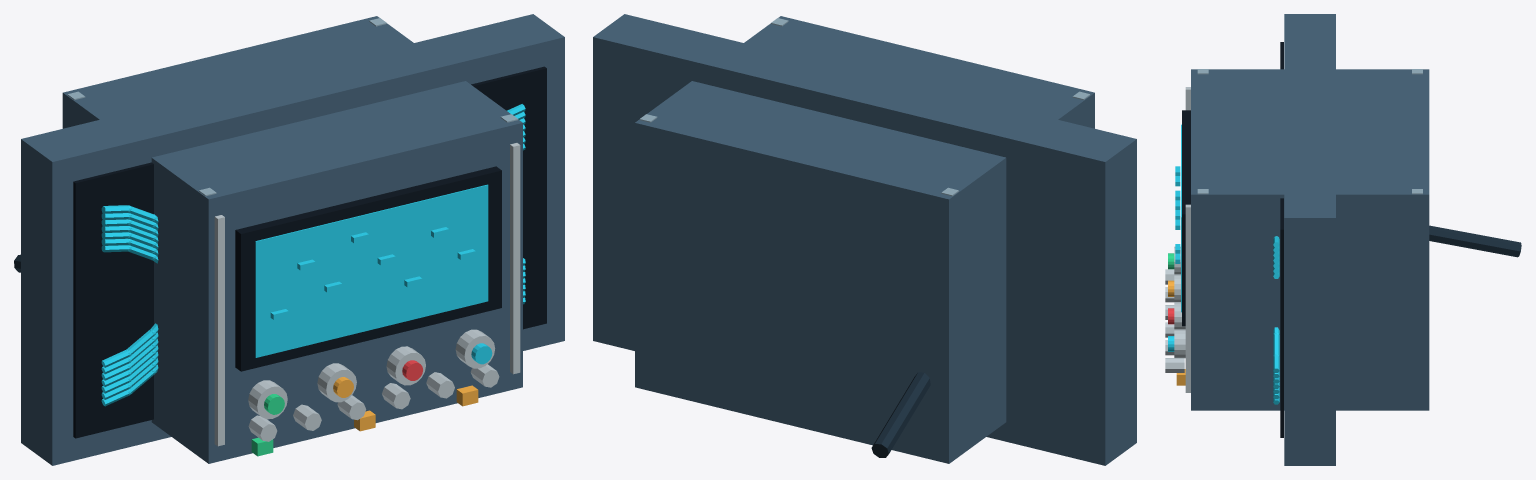
Rendered from 39_L80_ReceiverTransimpedanceAmplifierBank.fbx.
3 renders of one model, left to right at view 1: azimuth 30°, elevation 25°; view 2: azimuth 150°, elevation 25°; view 3: azimuth 270°, elevation 25°, orthographic. The views are drawn at different scales.
Parts seen in each view (by area): view 1: ReceiverTransimpedanceAmplifierBank, ReceiverTransimpedanceAmplifierBank_Part_0035, ReceiverTransimpedanceAmplifierBank_Part_0036; view 2: ReceiverTransimpedanceAmplifierBank, ReceiverTransimpedanceAmplifierBank_Part_0035; view 3: ReceiverTransimpedanceAmplifierBank, ReceiverTransimpedanceAmplifierBank_Part_0035, ReceiverTransimpedanceAmplifierBank_Part_0036.
Part boxes in pixels (box(x1,y1,x2,y2)): ReceiverTransimpedanceAmplifierBank: box(14, 16, 522, 463); ReceiverTransimpedanceAmplifierBank_Part_0035: box(21, 14, 564, 465); ReceiverTransimpedanceAmplifierBank_Part_0036: box(73, 66, 546, 438); ReceiverTransimpedanceAmplifierBank: box(635, 16, 1094, 463); ReceiverTransimpedanceAmplifierBank_Part_0035: box(593, 14, 1136, 465); ReceiverTransimpedanceAmplifierBank: box(1165, 69, 1521, 410); ReceiverTransimpedanceAmplifierBank_Part_0035: box(1284, 14, 1335, 465); ReceiverTransimpedanceAmplifierBank_Part_0036: box(1280, 42, 1283, 437).
Size of the model in its own units: 150 by 85 by 111.
